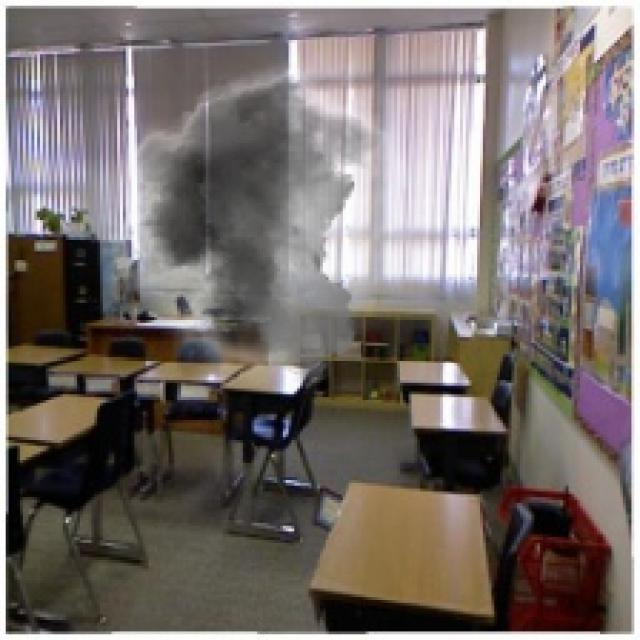smoke: (89, 46, 452, 388)
